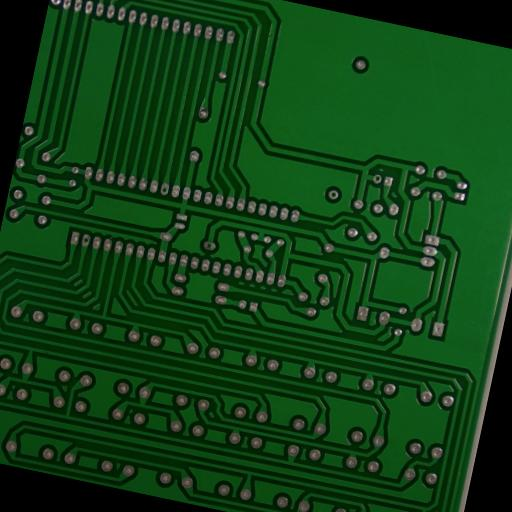missing_hole: (326, 188, 340, 200), (202, 240, 216, 251), (371, 173, 382, 185), (80, 234, 90, 246), (160, 184, 170, 195)
